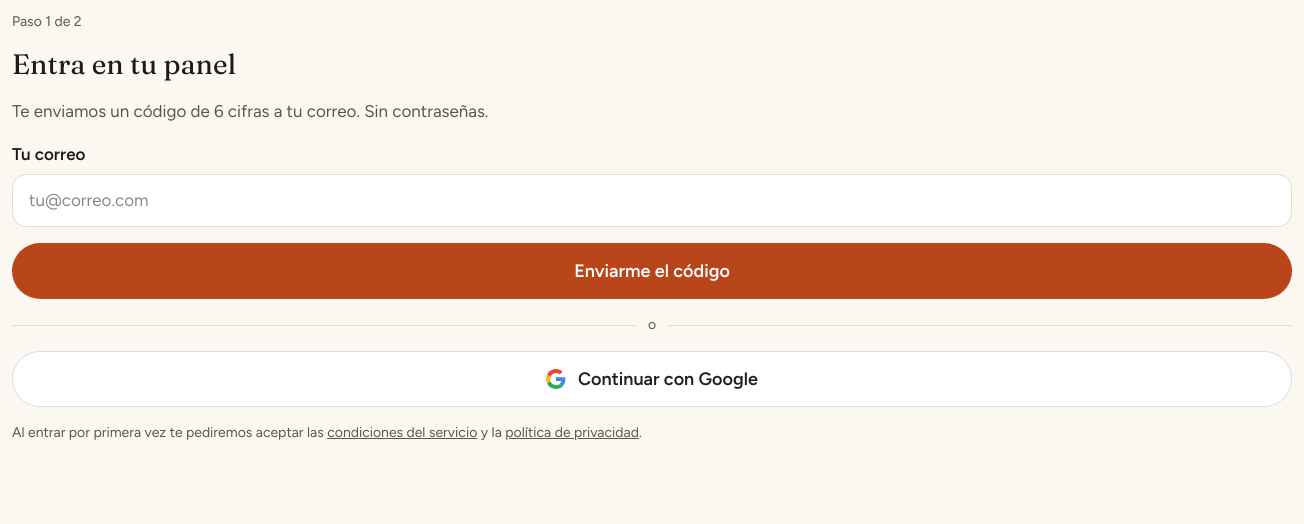
it: FormularioEntrar › muestra el error del paso 1 en una alerta y se queda en el paso 1
Type "Bar@x.es" into the field labelled "Tu correo" at (652,201), box [12,174,1292,227]
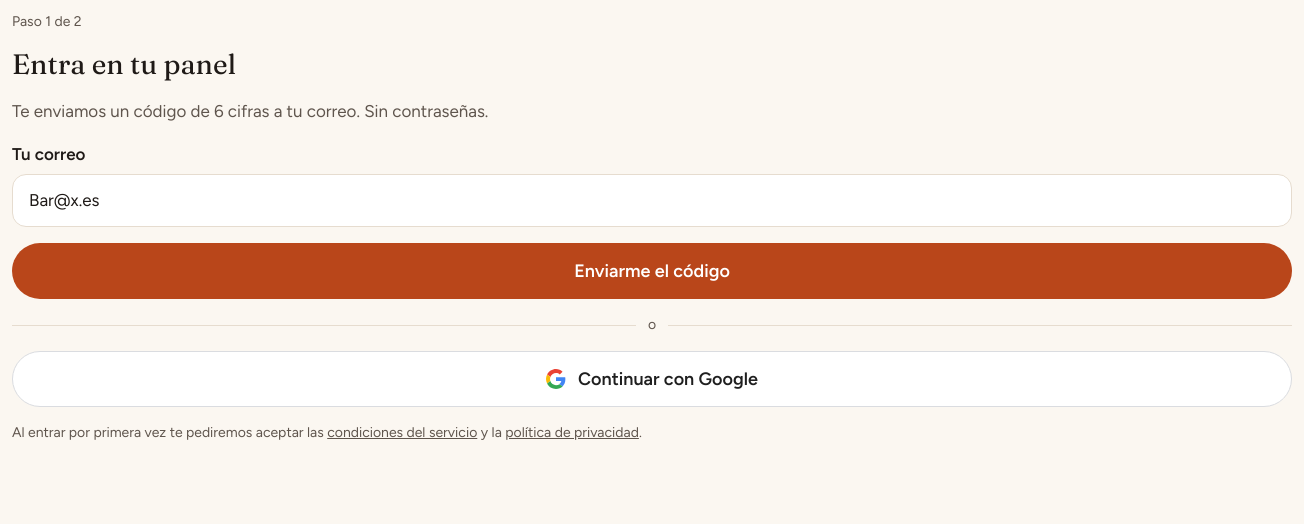
Click the button "Enviarme el código" at (652,271), box [12,243,1292,299]
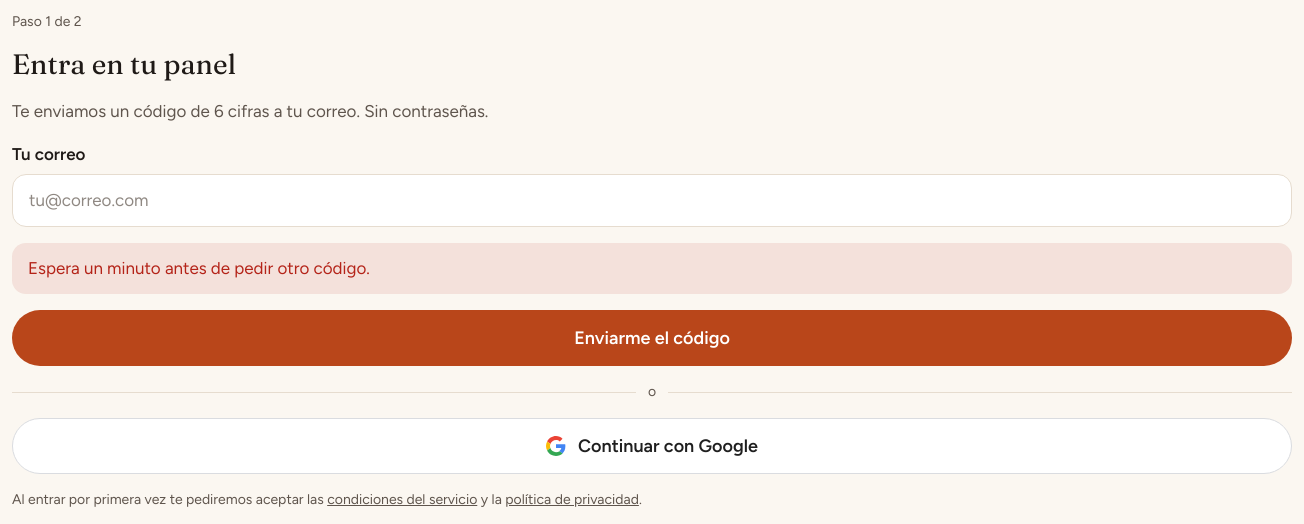
Check: the heading "Entra en tu panel" is shown, box [12,47,236,81]
Check: the message shows "Espera un minuto", box [28,258,370,278]
